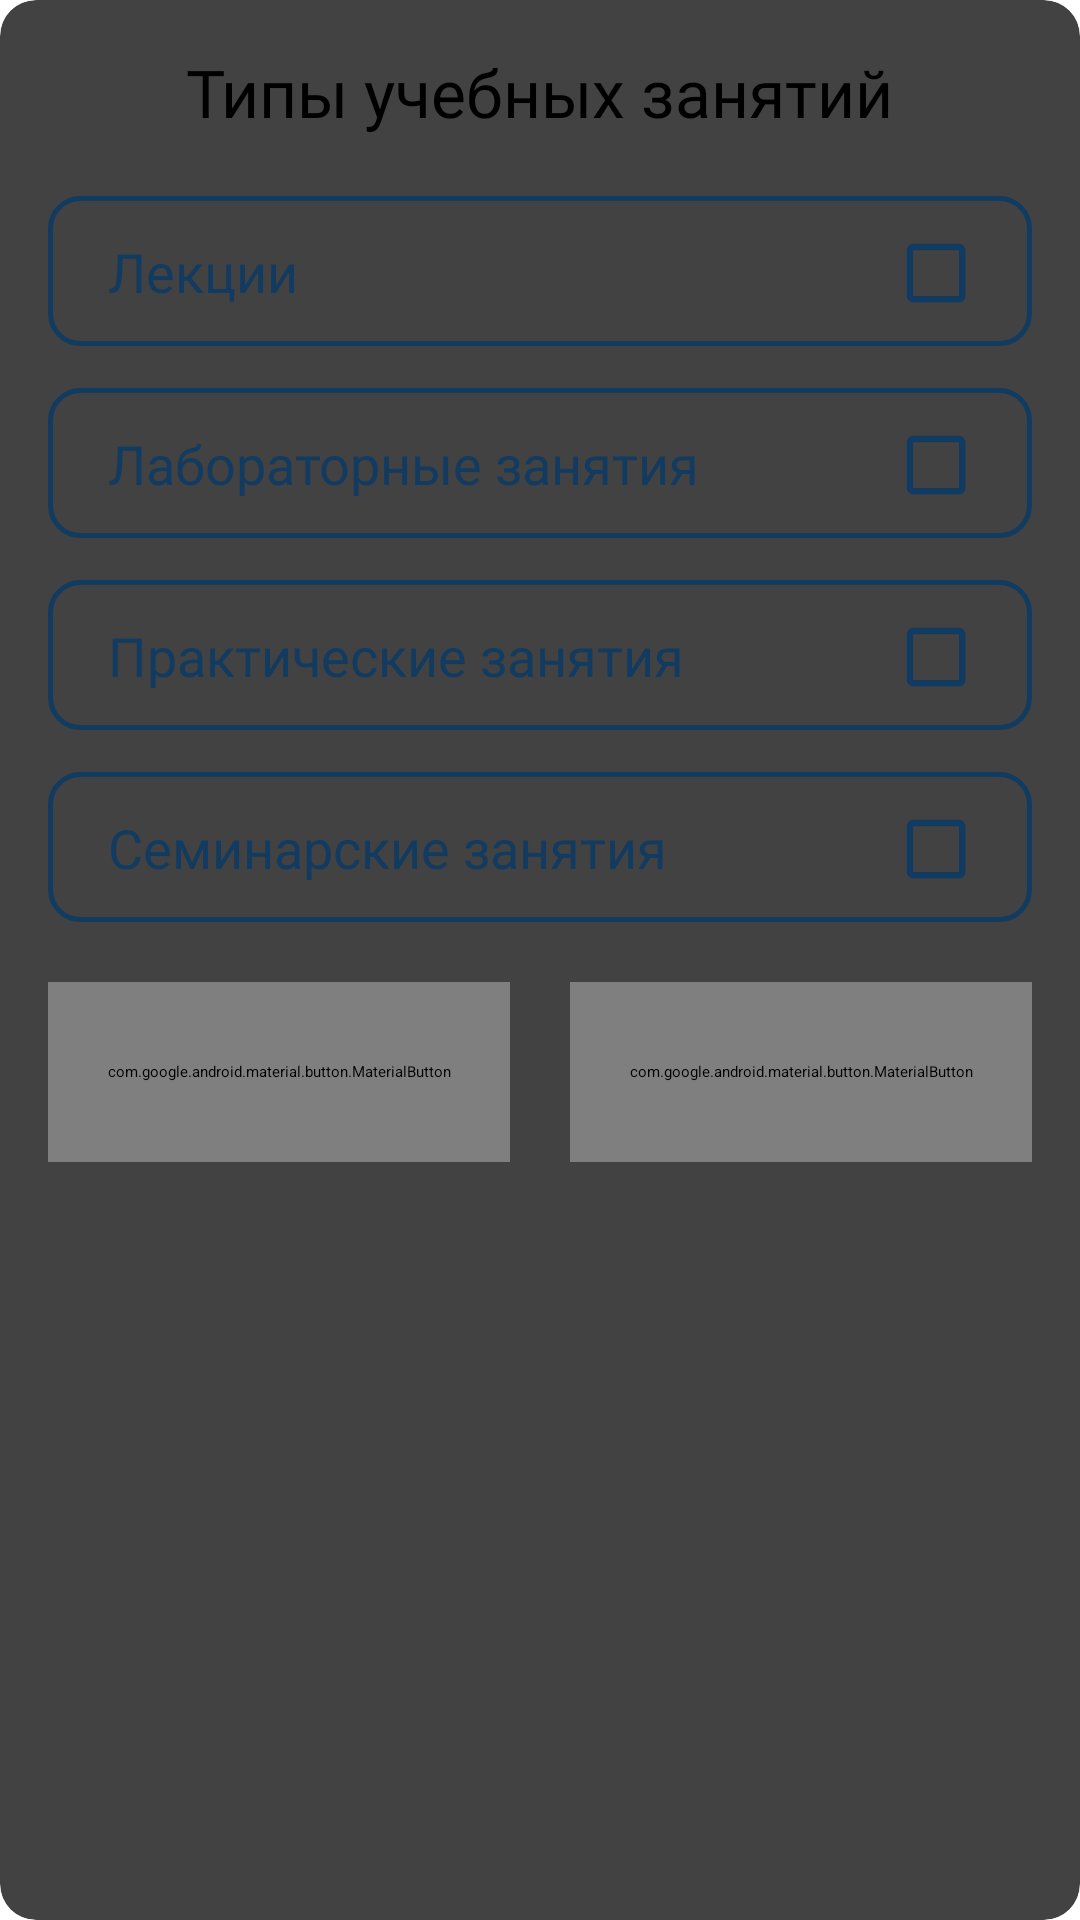

Screen size 1080px×1920px. Icon name, then its box in pixels as (x1, y1, x2, y2):
checkbox: (907, 244, 965, 302), (907, 436, 965, 494), (907, 628, 965, 686), (907, 820, 965, 878)
